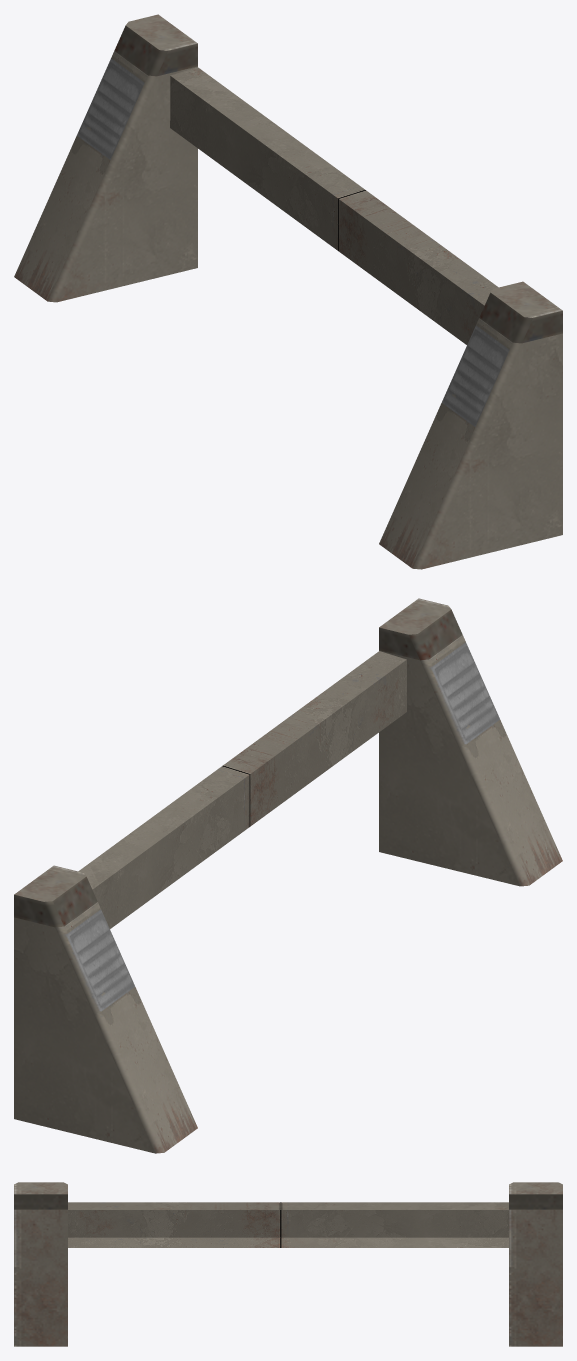
Rendered from CP_Canopy_Industrial_Clamps.fbx.
The picture shows the model from 3 angles, top to bottom: view 1: azimuth 30°, elevation 25°; view 2: azimuth 150°, elevation 25°; view 3: azimuth 270°, elevation 25°; orthographic projection. The views are drawn at different scales.
Parts seen in each view (by area): view 1: CP_Canopy_Industrial_Clamps; view 2: CP_Canopy_Industrial_Clamps; view 3: CP_Canopy_Industrial_Clamps.
Part boxes in pixels (left/top/right/bottom): CP_Canopy_Industrial_Clamps: left=14, top=14, right=562, bottom=569; CP_Canopy_Industrial_Clamps: left=14, top=598, right=562, bottom=1153; CP_Canopy_Industrial_Clamps: left=14, top=1182, right=562, bottom=1346.
Size of the model in its own units: 65.27 by 95.01 by 311.
